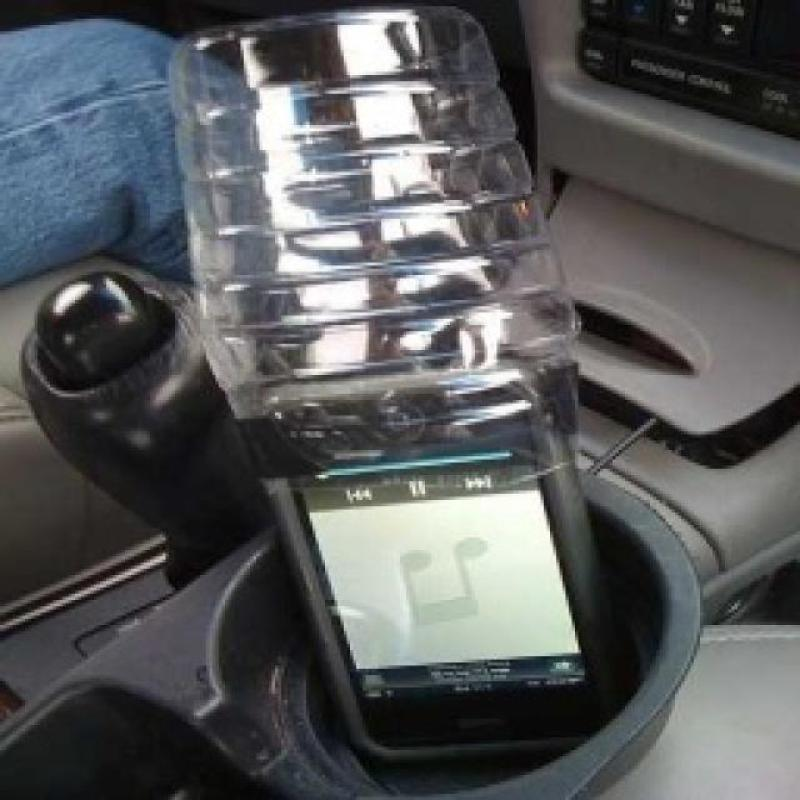botella: (162, 8, 586, 477)
